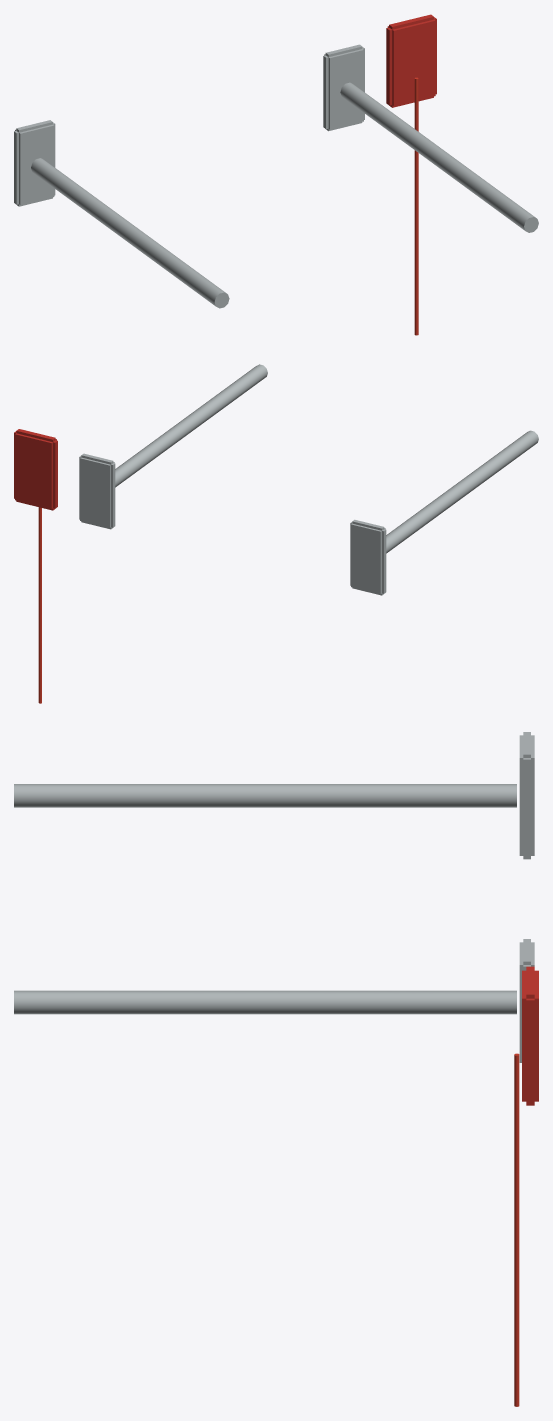
Rendered from accessible_rails.glb.
The picture shows the model from 3 angles, top to bottom: view 1: azimuth 30°, elevation 25°; view 2: azimuth 150°, elevation 25°; view 3: azimuth 270°, elevation 25°; orthographic projection. The views are drawn at different scales.
Visible parts, largest first — view 1: accessible_rails_Brushed_stainless.001, accessible_rails_Emergency_red, accessible_rails_Cord_red; view 2: accessible_rails_Brushed_stainless.001, accessible_rails_Emergency_red, accessible_rails_Cord_red; view 3: accessible_rails_Brushed_stainless.001, accessible_rails_Emergency_red, accessible_rails_Cord_red.
Boxes of the visible parts, left/top/right/bottom form: accessible_rails_Brushed_stainless.001: left=14, top=44, right=538, bottom=308; accessible_rails_Emergency_red: left=386, top=14, right=436, bottom=107; accessible_rails_Cord_red: left=414, top=77, right=418, bottom=335; accessible_rails_Brushed_stainless.001: left=79, top=364, right=538, bottom=595; accessible_rails_Emergency_red: left=14, top=429, right=57, bottom=510; accessible_rails_Cord_red: left=38, top=507, right=41, bottom=703; accessible_rails_Brushed_stainless.001: left=14, top=732, right=534, bottom=1062; accessible_rails_Emergency_red: left=522, top=966, right=538, bottom=1105; accessible_rails_Cord_red: left=514, top=1053, right=519, bottom=1406.
Size of the model in its own units: 0.98 by 0.69 by 0.7725.
